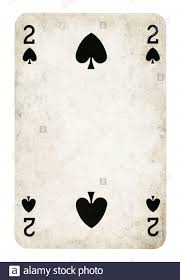two of spades: (16, 13, 165, 248)
